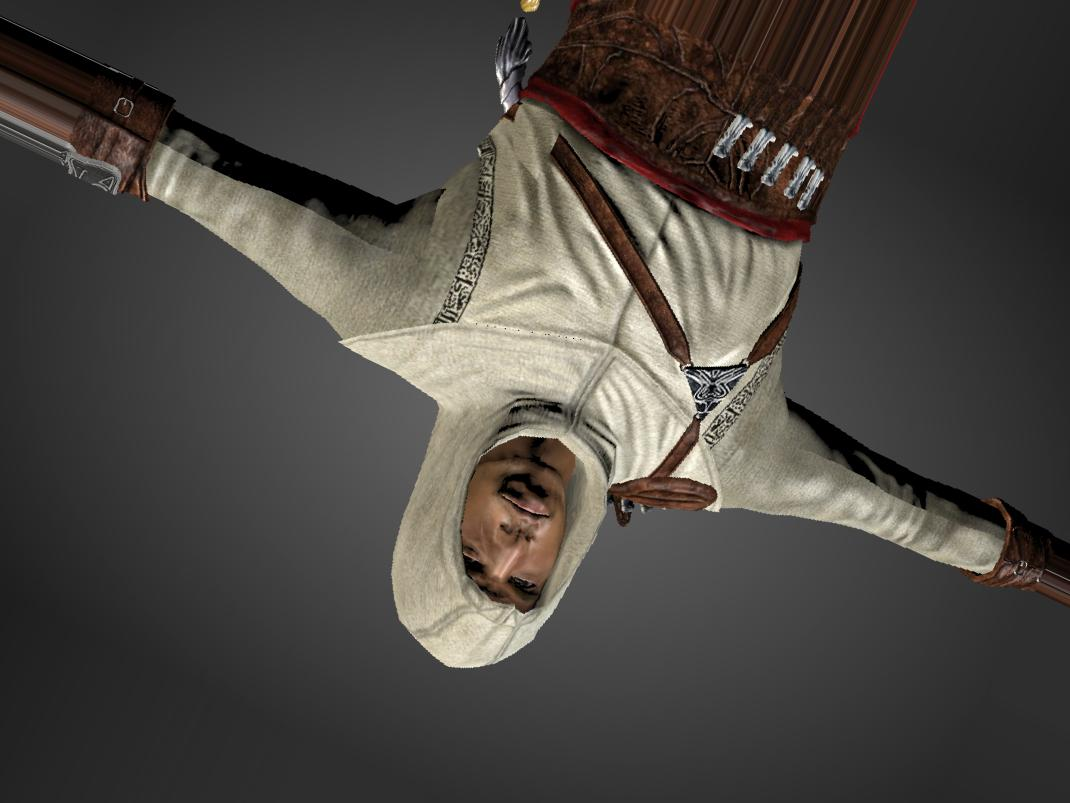clip: (511, 98, 574, 158)
